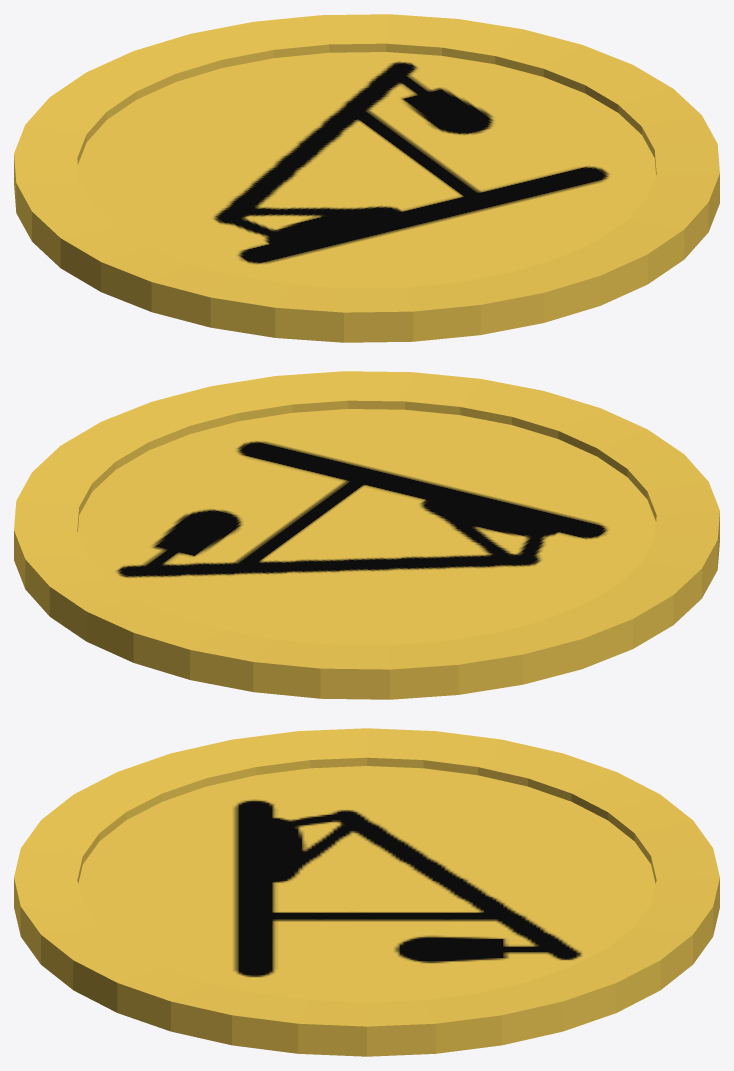
Rendered from CoinTrebuchet.fbx.
The picture shows the model from 3 angles, top to bottom: view 1: azimuth 30°, elevation 25°; view 2: azimuth 150°, elevation 25°; view 3: azimuth 270°, elevation 25°; orthographic projection.
Parts seen in each view (by area): view 1: CoinTrebuchet; view 2: CoinTrebuchet; view 3: CoinTrebuchet.
Boxes of the visible parts, box(x1,y1,x2,y2) form: CoinTrebuchet: box(14, 14, 719, 342); CoinTrebuchet: box(14, 371, 719, 699); CoinTrebuchet: box(14, 728, 719, 1056).
Size of the model in its own units: 57.16 by 2.69 by 57.16.
Materials: 1 (1 with a texture image).
